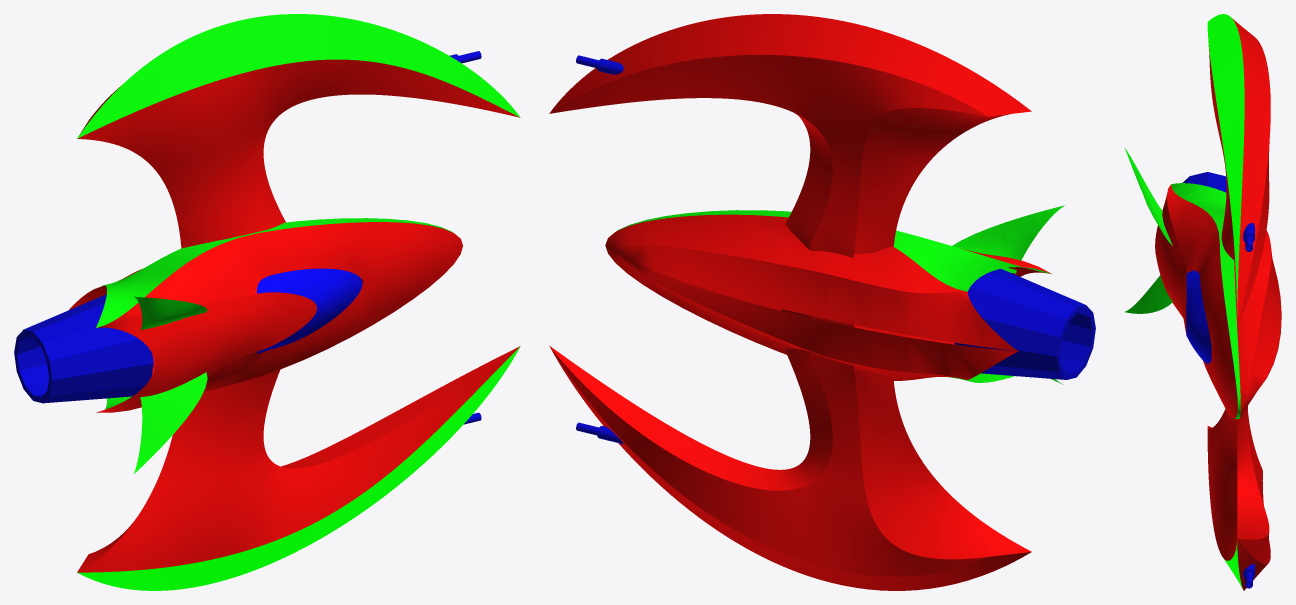
File: glider7.glb
3 renders of one model, left to right at view 1: azimuth 30°, elevation 25°; view 2: azimuth 150°, elevation 25°; view 3: azimuth 270°, elevation 25°, orthographic. The views are drawn at different scales.
Visible parts, largest first — view 1: path855.003, path839.002, BezierCurve.021, BezierCurve.016, Cylinder.001, path815.003, BezierCurve.017, BezierCurve.010, path1976.002; view 2: path855.004, BezierCurve.014, path1984.002, path839.003, BezierCurve.011, path1976.002, Cylinder.001, BezierCurve.017, path815.003, BezierCurve.021; view 3: path839.003, BezierCurve.021, path839.002, path855.003, BezierCurve.017, path1976.002, BezierCurve.011, BezierCurve.014, path855.004, BezierCurve.016, BezierCurve.010, path815.003 (+3 smaller).
Part boxes in pixels (x1=…): path855.003: x1=77, y1=59, x2=520, y2=572; path839.002: x1=77, y1=14, x2=520, y2=590; BezierCurve.021: x1=106, y1=222, x2=462, y2=391; BezierCurve.016: x1=97, y1=292, x2=317, y2=412; Cylinder.001: x1=14, y1=294, x2=153, y2=403; path815.003: x1=134, y1=296, x2=207, y2=473; BezierCurve.017: x1=96, y1=218, x2=453, y2=412; BezierCurve.010: x1=257, y1=268, x2=362, y2=353; path1976.002: x1=281, y1=346, x2=519, y2=468; path855.004: x1=550, y1=55, x2=987, y2=576; BezierCurve.014: x1=615, y1=244, x2=1018, y2=379; path1984.002: x1=854, y1=108, x2=1031, y2=559; path839.003: x1=549, y1=14, x2=1031, y2=590; BezierCurve.011: x1=605, y1=214, x2=966, y2=380; path1976.002: x1=549, y1=113, x2=832, y2=490; Cylinder.001: x1=954, y1=269, x2=1095, y2=379; BezierCurve.017: x1=616, y1=210, x2=1051, y2=382; path815.003: x1=952, y1=205, x2=1064, y2=384; BezierCurve.021: x1=640, y1=249, x2=1051, y2=344; path839.003: x1=1231, y1=17, x2=1270, y2=590; BezierCurve.021: x1=1167, y1=184, x2=1237, y2=418; path839.002: x1=1207, y1=14, x2=1244, y2=588; path855.003: x1=1207, y1=45, x2=1237, y2=560; BezierCurve.017: x1=1171, y1=183, x2=1240, y2=418; path1976.002: x1=1237, y1=406, x2=1269, y2=539; BezierCurve.011: x1=1234, y1=230, x2=1271, y2=417; BezierCurve.014: x1=1246, y1=245, x2=1281, y2=403; path855.004: x1=1237, y1=142, x2=1270, y2=564; BezierCurve.016: x1=1155, y1=195, x2=1186, y2=333; BezierCurve.010: x1=1186, y1=270, x2=1211, y2=363; path815.003: x1=1124, y1=147, x2=1172, y2=313.
Bounding box in the file's own units: 1.82 × 1.92 × 0.5303.
